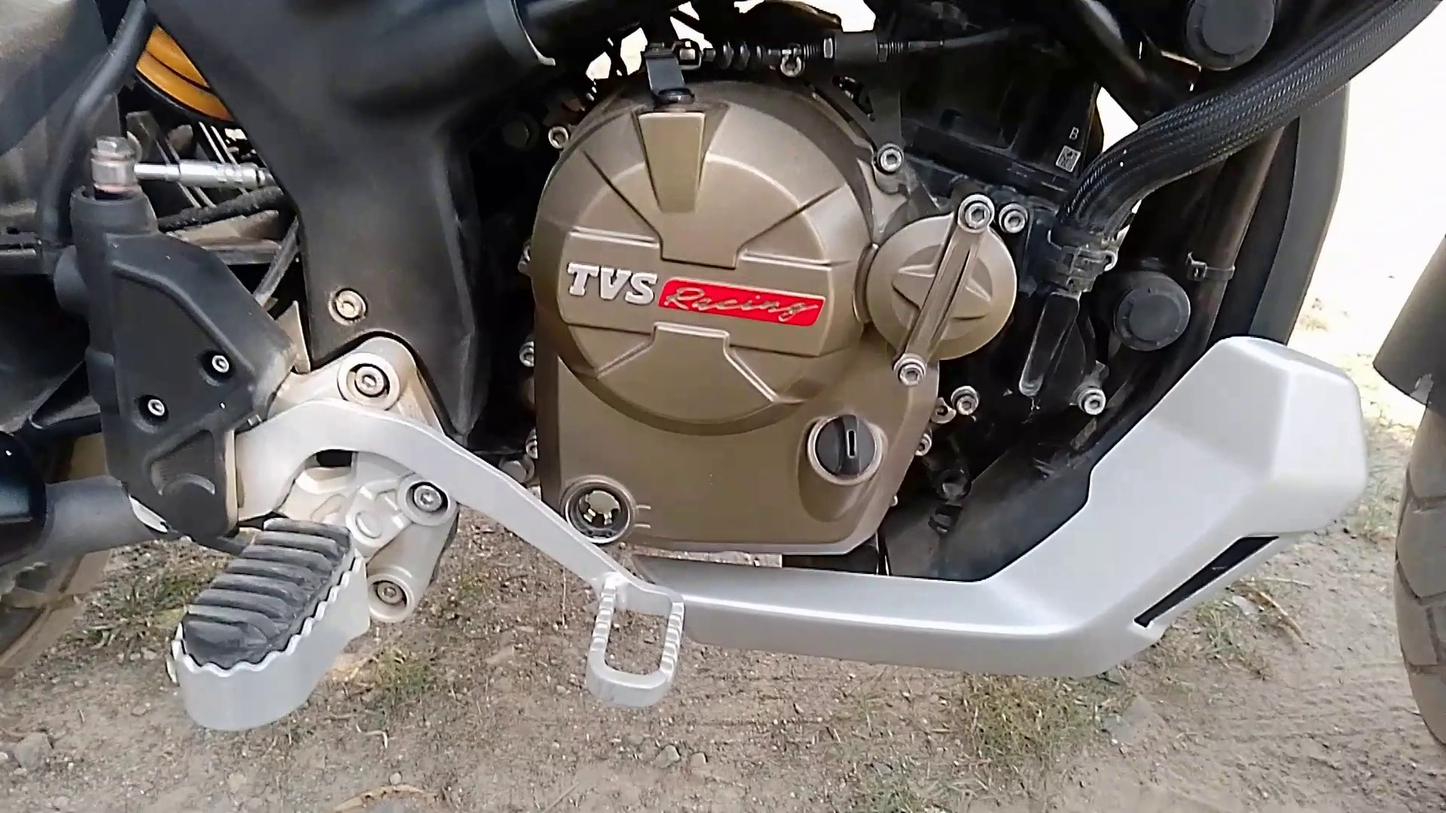engine: (499, 23, 1047, 597)
oil_cap: (789, 401, 892, 501)
oil_marker: (538, 465, 676, 561)
